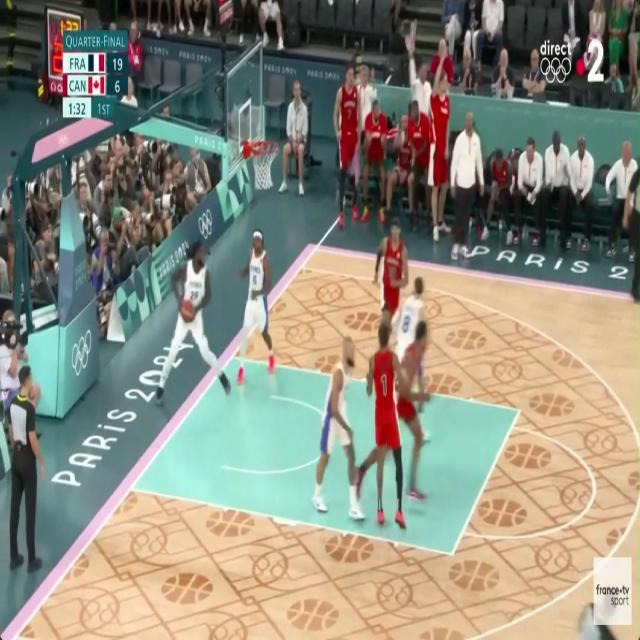ball_handler: (152, 241, 232, 407)
